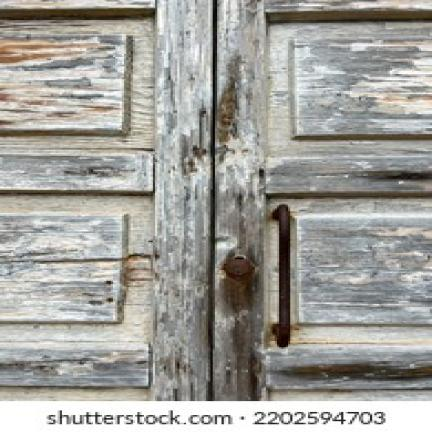karat: (224, 255, 253, 279)
